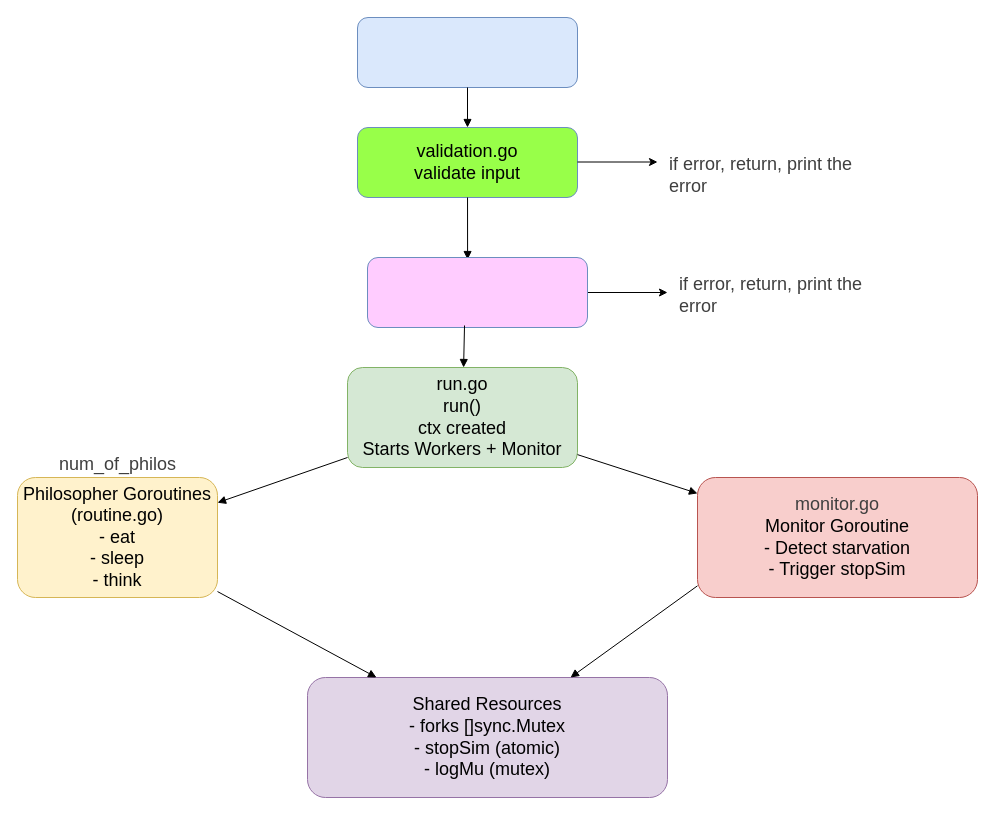
Some shapes in this 995 by 815 pixel diagram are drawn without their labels. Here are the shapes that lost their labels. From the top down, the box of each, then its label:
(356, 16, 578, 88): main.go (Orchestrator)
(366, 256, 588, 328): init.go initialize program state
